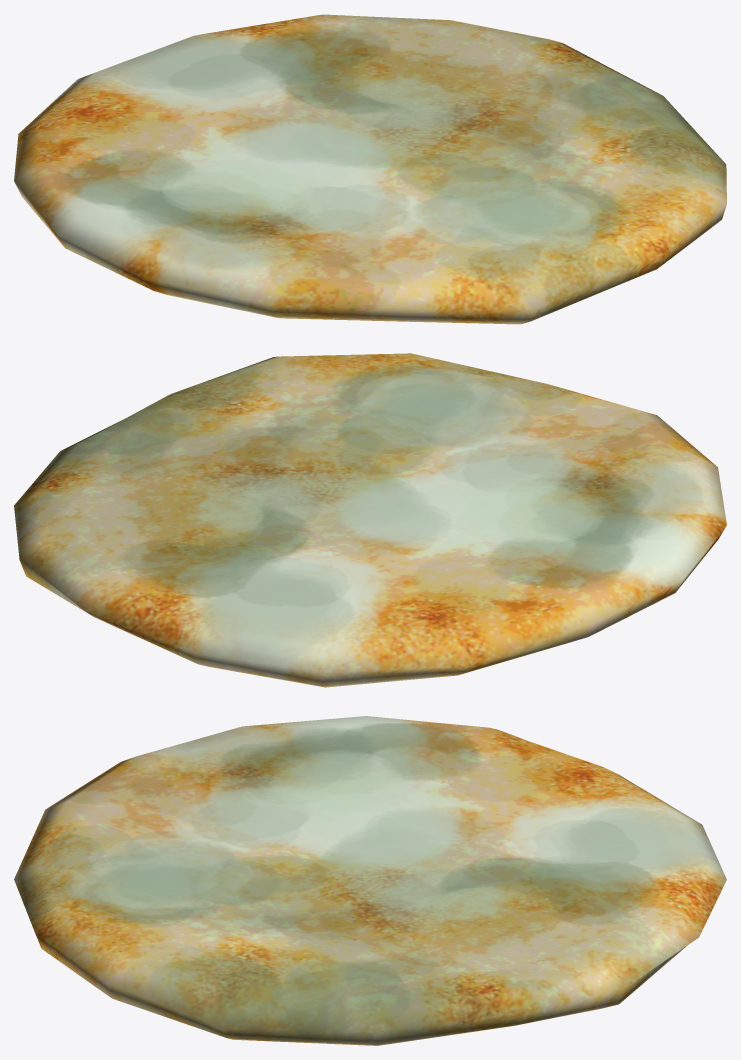
Rendered from VFX_Flatbread.fbx.
3 renders of one model, top to bottom at view 1: azimuth 30°, elevation 25°; view 2: azimuth 150°, elevation 25°; view 3: azimuth 270°, elevation 25°, orthographic.
Visible parts, largest first — view 1: Flat Bread; view 2: Flat Bread; view 3: Flat Bread.
Boxes of the visible parts, x1,y1,x2,y2 form: Flat Bread: [14, 14, 726, 324]; Flat Bread: [14, 353, 726, 687]; Flat Bread: [14, 716, 726, 1045].
Bounding box in the file's own units: 0.1383 × 0.0139 × 0.1407.
